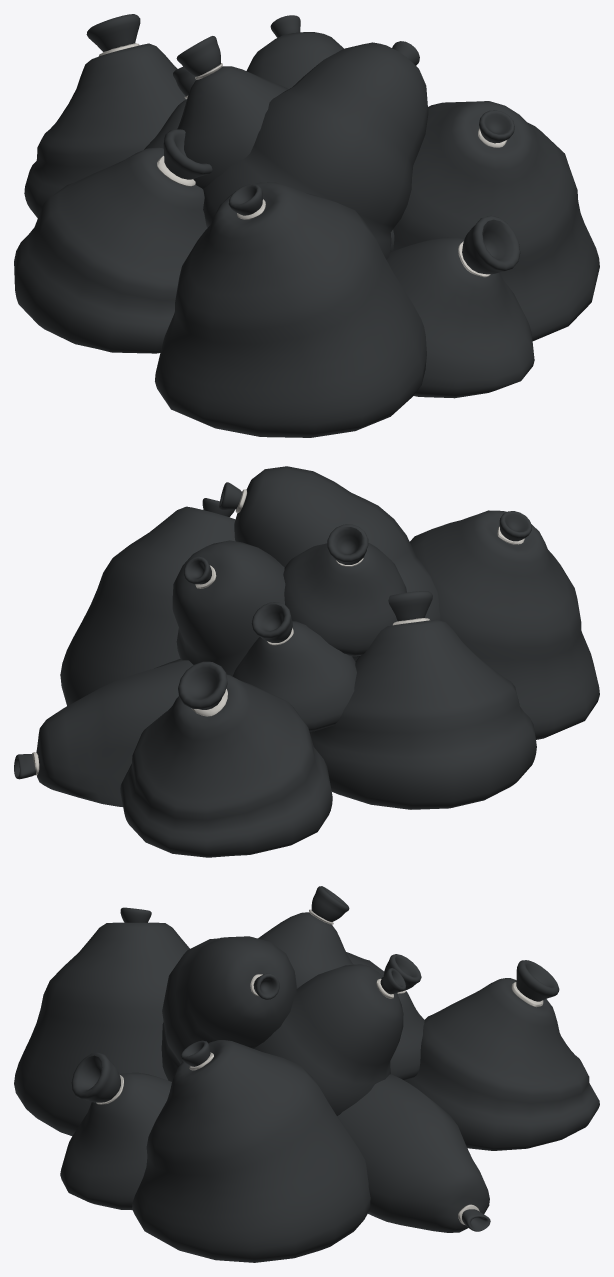
File: Montaña_Basura_03.fbx
3 views of the same model, one above another, from view 1: azimuth 30°, elevation 25°; view 2: azimuth 150°, elevation 25°; view 3: azimuth 270°, elevation 25° (orthographic). The views are drawn at different scales.
Visible parts, largest first — view 1: Montaña_Basura_03; view 2: Montaña_Basura_03; view 3: Montaña_Basura_03.
Boxes of the visible parts, x1,y1,x2,y2 form: Montaña_Basura_03: (14, 14, 599, 437); Montaña_Basura_03: (14, 466, 599, 857); Montaña_Basura_03: (14, 886, 599, 1262).
Bounding box in the file's own units: 420 × 234 × 482.
